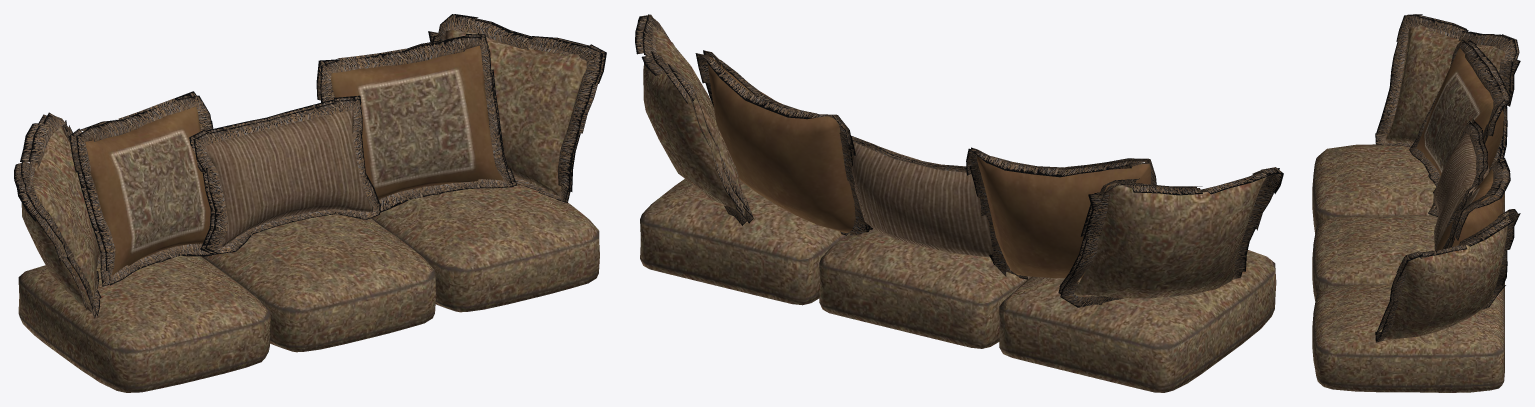
The model's file is sofa_03_pillows.fbx.
3 renders of one model, left to right at view 1: azimuth 30°, elevation 25°; view 2: azimuth 150°, elevation 25°; view 3: azimuth 270°, elevation 25°, orthographic. The views are drawn at different scales.
Visible parts, largest first — view 1: pillow, pillow.004, pillow.002, pillow.001, pillow.005, pillow.003, pillow.007, pillow.006; view 2: pillow, pillow.006, pillow.002, pillow.001, pillow.004, pillow.003, pillow.005, pillow.007; view 3: pillow.001, pillow.007, pillow.006, pillow, pillow.002, pillow.003, pillow.005, pillow.004.
Boxes of the visible parts, <box> form: pillow: <box>18,255,270,392</box>; pillow.004: <box>316,34,517,212</box>; pillow.002: <box>201,214,435,352</box>; pillow.001: <box>371,184,599,312</box>; pillow.005: <box>189,95,380,254</box>; pillow.003: <box>69,91,213,286</box>; pillow.007: <box>428,14,606,202</box>; pillow.006: <box>14,112,101,317</box>; pillow: <box>999,250,1276,392</box>; pillow.006: <box>1058,167,1283,307</box>; pillow.002: <box>819,228,1031,348</box>; pillow.001: <box>640,179,845,305</box>; pillow.004: <box>695,50,872,235</box>; pillow.003: <box>966,147,1156,279</box>; pillow.005: <box>851,135,993,256</box>; pillow.007: <box>635,14,753,225</box>; pillow.001: <box>1312,284,1504,392</box>; pillow.007: <box>1375,209,1520,342</box>; pillow.006: <box>1375,14,1520,169</box>; pillow: <box>1312,144,1504,233</box>; pillow.002: <box>1312,215,1504,300</box>; pillow.003: <box>1409,39,1510,186</box>; pillow.005: <box>1428,119,1489,250</box>; pillow.004: <box>1435,158,1510,250</box>.
Bounding box in the file's own units: 87.48 × 31.25 × 27.95.
